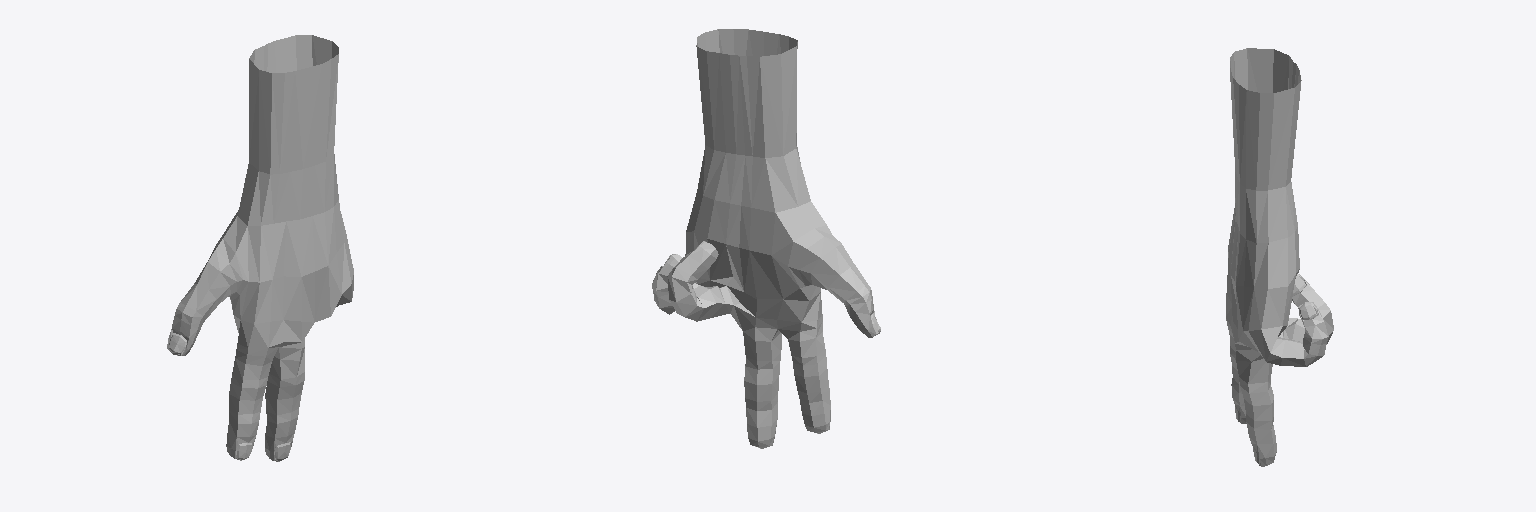
The model's file is handAnimated4_000025.obj.
The picture shows the model from 3 angles: view 1: azimuth 30°, elevation 25°; view 2: azimuth 150°, elevation 25°; view 3: azimuth 270°, elevation 25°; orthographic projection.
Visible parts, largest first — view 1: Cube.000_Cube.017_Detached_Detached; view 2: Cube.000_Cube.017_Detached_Detached; view 3: Cube.000_Cube.017_Detached_Detached.
Part boxes in pixels (bbox=[...]): Cube.000_Cube.017_Detached_Detached: bbox=[167, 35, 353, 461]; Cube.000_Cube.017_Detached_Detached: bbox=[652, 29, 880, 448]; Cube.000_Cube.017_Detached_Detached: bbox=[1226, 48, 1333, 466].
Size of the model in its own units: 0.69 by 1.34 by 0.327.